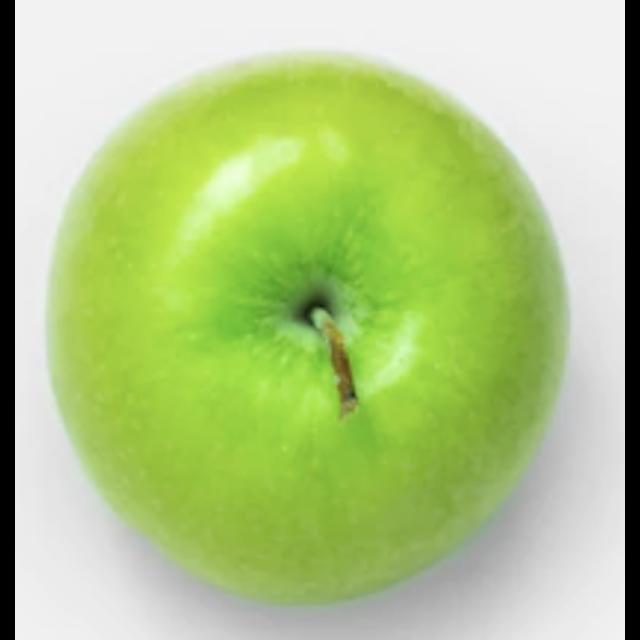Apel Segar: (55, 27, 579, 593)
